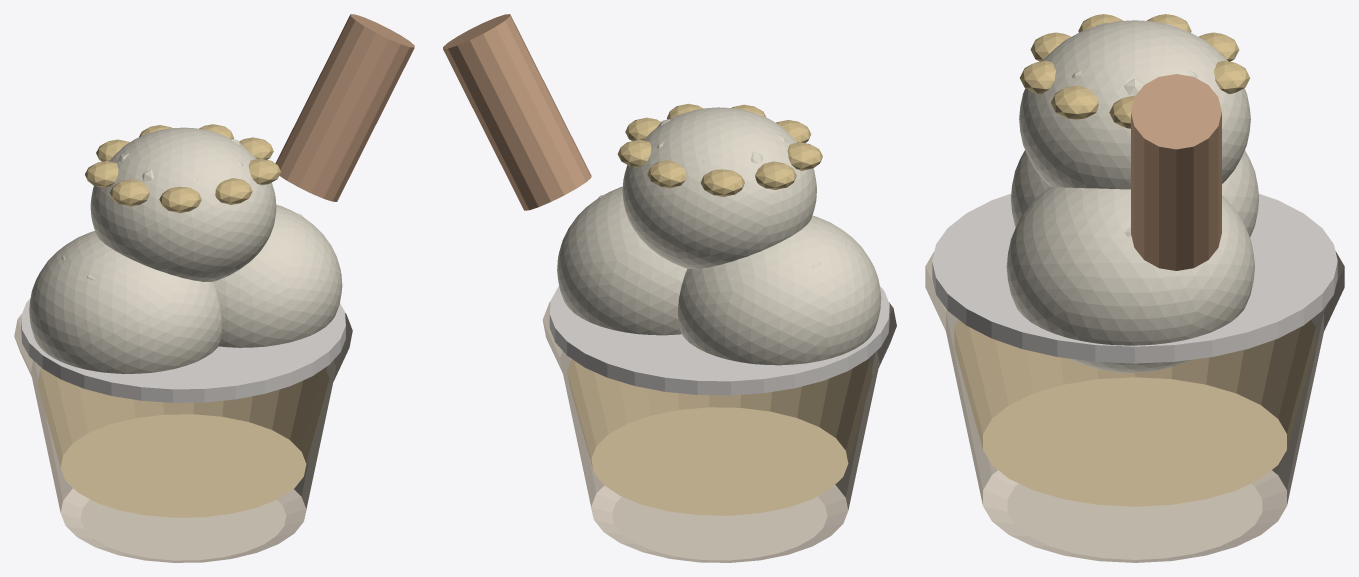
File: sundae_xoai.glb
The picture shows the model from 3 angles, left to right: view 1: azimuth 30°, elevation 25°; view 2: azimuth 150°, elevation 25°; view 3: azimuth 270°, elevation 25°; orthographic projection. The views are drawn at different scales.
Parts seen in each view (by area): view 1: obj_0002, obj_0003, obj_0019, obj_0000, obj_0036, obj_0011, obj_0001, obj_0030, obj_0031, obj_0029, obj_0032, obj_0028 (+1 smaller); view 2: obj_0002, obj_0003, obj_0019, obj_0000, obj_0036, obj_0001, obj_0011, obj_0033, obj_0032, obj_0034, obj_0031, obj_0035 (+1 smaller); view 3: obj_0002, obj_0011, obj_0001, obj_0000, obj_0019, obj_0036, obj_0003, obj_0028, obj_0029, obj_0034, obj_0030, obj_0033 (+1 smaller).
Part boxes in pixels (left/top/right/bottom): obj_0002: left=37, top=368, right=329, bottom=517; obj_0003: left=29, top=231, right=221, bottom=373; obj_0019: left=90, top=127, right=276, bottom=281; obj_0000: left=14, top=313, right=352, bottom=562; obj_0036: left=275, top=14, right=414, bottom=201; obj_0011: left=213, top=204, right=342, bottom=347; obj_0001: left=21, top=298, right=345, bottom=402; obj_0030: left=159, top=187, right=201, bottom=212; obj_0031: left=110, top=179, right=149, bottom=206; obj_0029: left=215, top=178, right=252, bottom=204; obj_0032: left=85, top=161, right=118, bottom=188; obj_0028: left=248, top=158, right=280, bottom=185; obj_0002: left=567, top=359, right=872, bottom=515; obj_0003: left=678, top=215, right=881, bottom=365; obj_0019: left=622, top=107, right=816, bottom=268; obj_0000: left=542, top=301, right=896, bottom=562; obj_0036: left=443, top=14, right=591, bottom=210; obj_0001: left=549, top=286, right=889, bottom=395; obj_0011: left=557, top=186, right=686, bottom=335; obj_0033: left=700, top=169, right=744, bottom=196; obj_0032: left=755, top=161, right=796, bottom=189; obj_0034: left=647, top=160, right=686, bottom=188; obj_0031: left=787, top=142, right=822, bottom=170; obj_0035: left=617, top=139, right=651, bottom=167; obj_0002: left=954, top=320, right=1315, bottom=506; obj_0011: left=1006, top=186, right=1254, bottom=372; obj_0001: left=932, top=193, right=1337, bottom=363; obj_0000: left=925, top=251, right=1344, bottom=562; obj_0019: left=1019, top=20, right=1250, bottom=189; obj_0036: left=1131, top=74, right=1221, bottom=270; obj_0003: left=1011, top=150, right=1258, bottom=236; obj_0028: left=1051, top=85, right=1098, bottom=119; obj_0029: left=1020, top=60, right=1055, bottom=93; obj_0034: left=1214, top=60, right=1249, bottom=93; obj_0030: left=1030, top=32, right=1070, bottom=61; obj_0033: left=1199, top=32, right=1239, bottom=61.
Bounding box in the file's own units: 1.35 × 1.46 × 1.01.
